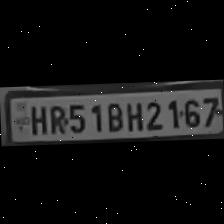1: (86, 99, 104, 132), (164, 96, 181, 128)
2: (142, 97, 164, 130)
5: (64, 100, 86, 133)
6: (178, 94, 200, 127)
7: (201, 93, 221, 126)
B: (103, 98, 123, 130)
H: (122, 98, 144, 131), (24, 100, 46, 132)
R: (46, 100, 64, 134)
